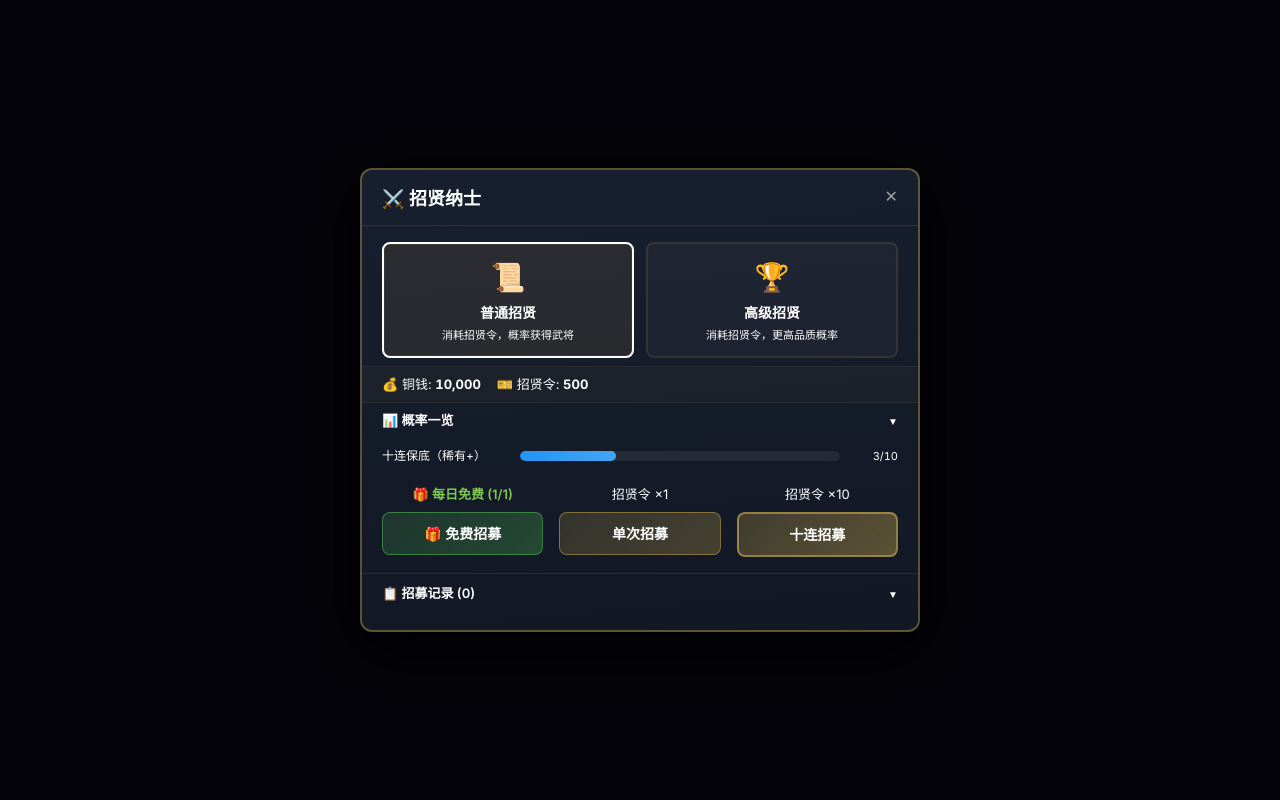
Scenario: RecruitModal › 展开后再点击应折叠概率表
Click the button with test id "recruit-rates-toggle".
click(418, 420)  # box [382,403,898,439]
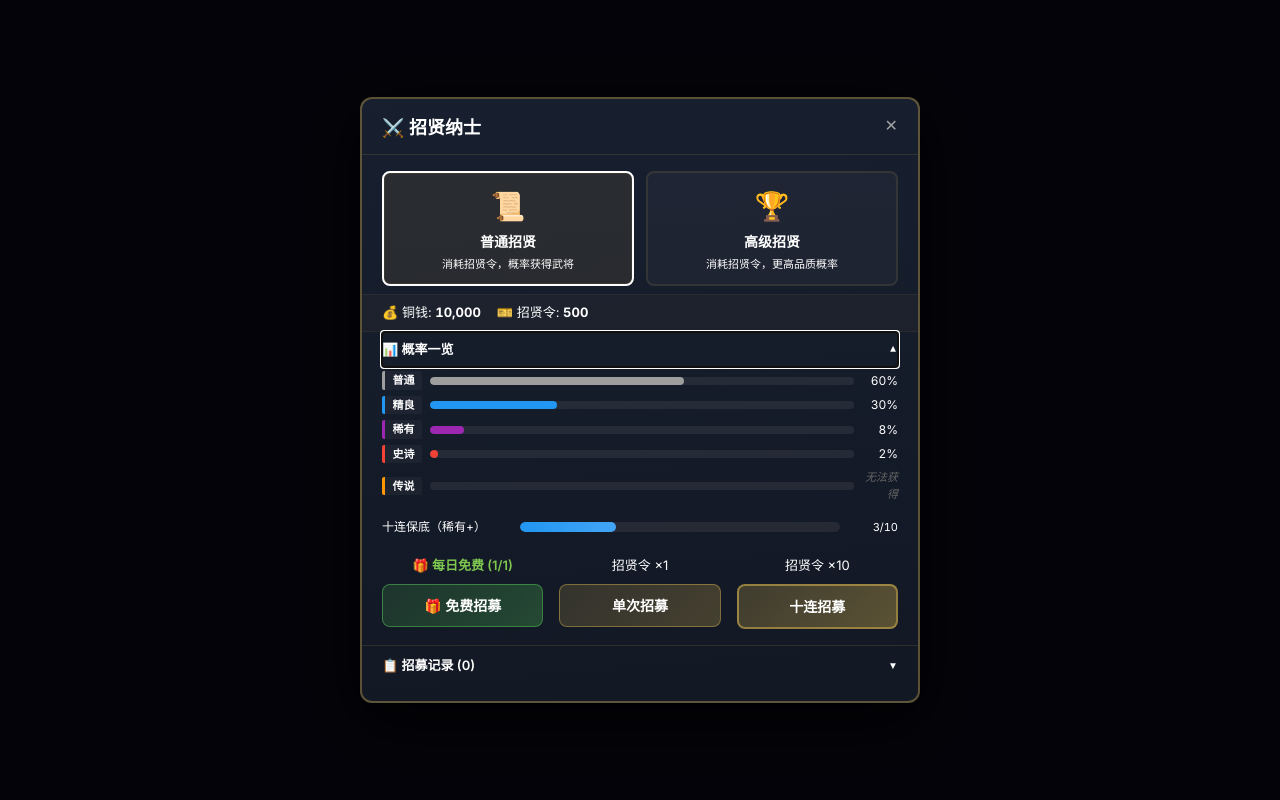
Result: the element with test id "recruit-rates-table" is shown at [382,367,898,510]
Click the button with test id "recruit-rates-toggle".
click(418, 349)  # box [382,332,898,367]
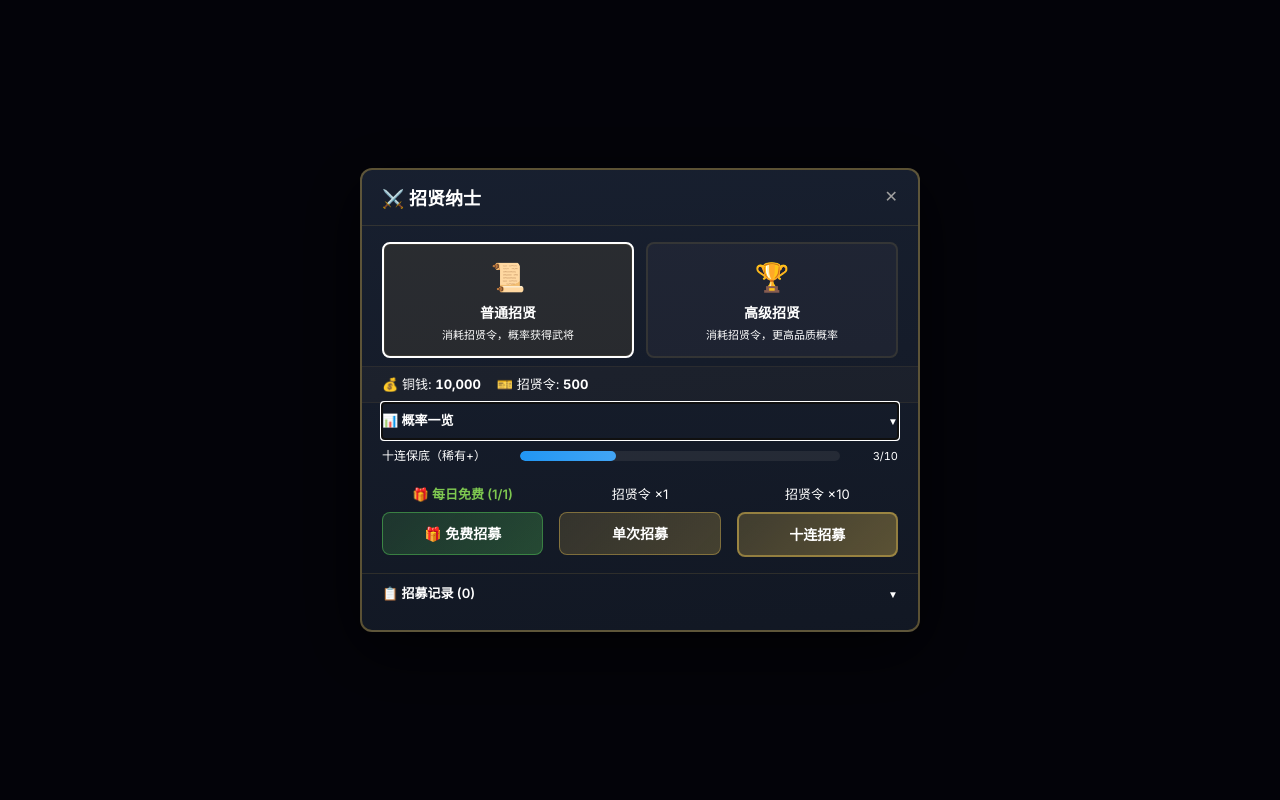
Result: the element with test id "recruit-rates-table" is gone
